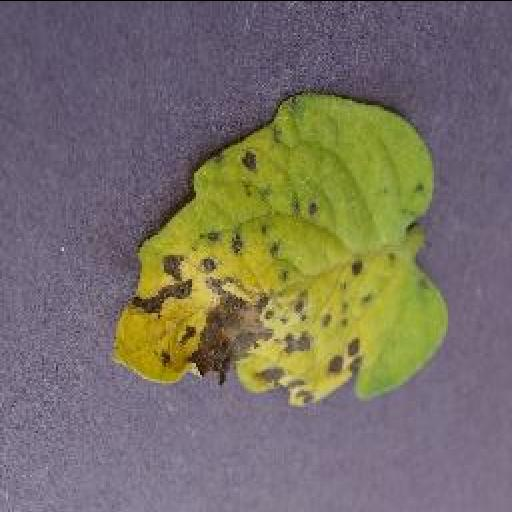disease_tomato: (108, 88, 452, 404)
